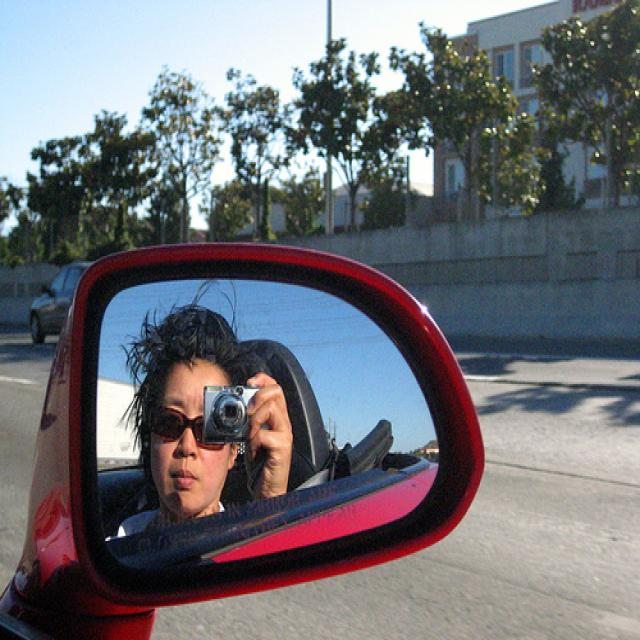light_vehicle: (27, 254, 97, 343)
